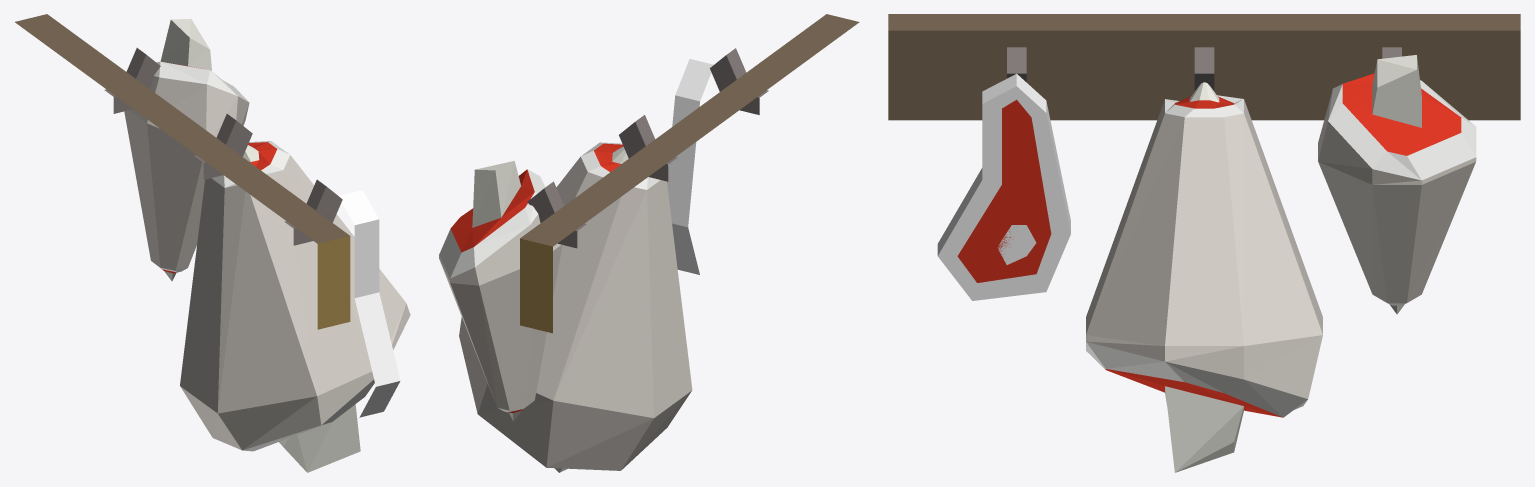
3 views of the same model, side by side, from view 1: azimuth 30°, elevation 25°; view 2: azimuth 150°, elevation 25°; view 3: azimuth 270°, elevation 25° (orthographic). The views are drawn at different scales.
Bounding box in the file's own units: 55 × 87 × 128.
1 material, 1 textured.
